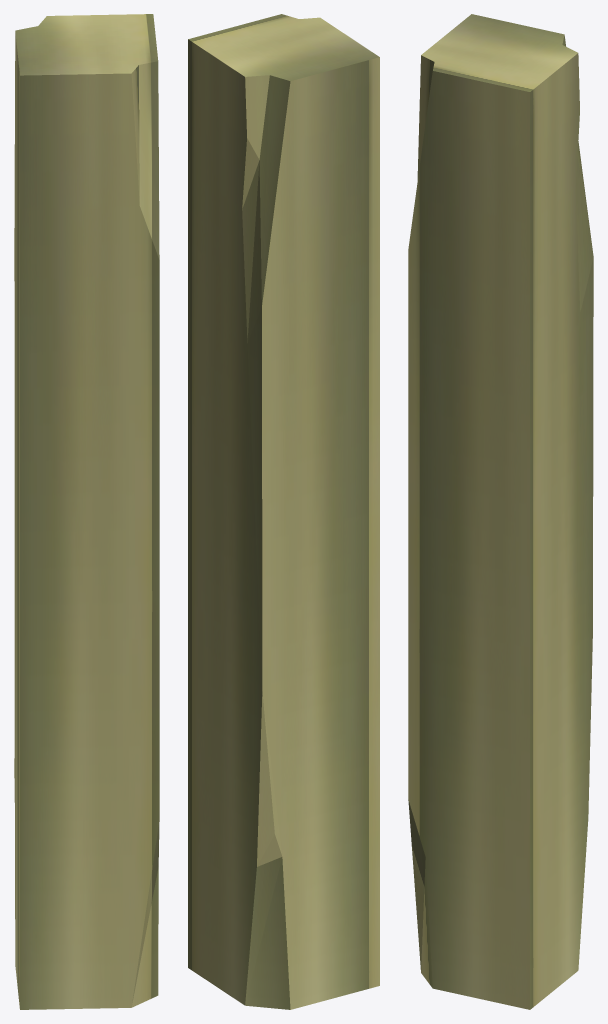
The model's file is TheOctagon_Floor_1_Col_4.gltf.
The picture shows the model from 3 angles, left to right: view 1: azimuth 30°, elevation 25°; view 2: azimuth 150°, elevation 25°; view 3: azimuth 270°, elevation 25°; orthographic projection.
Parts seen in each view (by area): view 1: TheOctagon_Floor_1_Col_4; view 2: TheOctagon_Floor_1_Col_4; view 3: TheOctagon_Floor_1_Col_4.
Part boxes in pixels (<box>): TheOctagon_Floor_1_Col_4: <box>14,14,159,1009</box>; TheOctagon_Floor_1_Col_4: <box>188,14,379,1009</box>; TheOctagon_Floor_1_Col_4: <box>408,14,593,1009</box>.
Bounding box in the file's own units: 2.73 × 14.96 × 2.74.
Materials: 1 (1 with a texture image).
